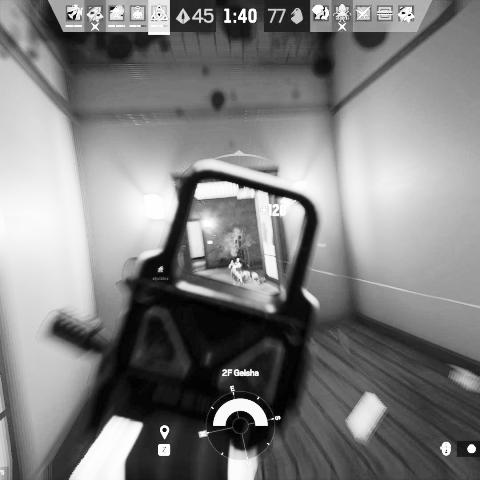Character: (228, 256, 268, 287)
Friend_label: (150, 264, 171, 283)
